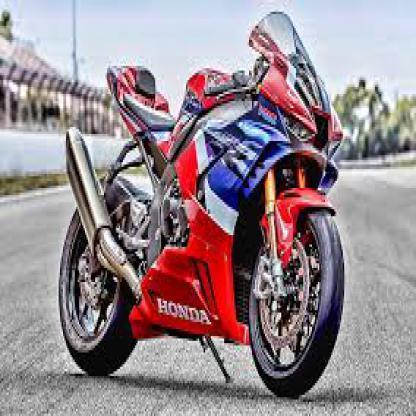Motorcycle: (50, 24, 349, 408)
